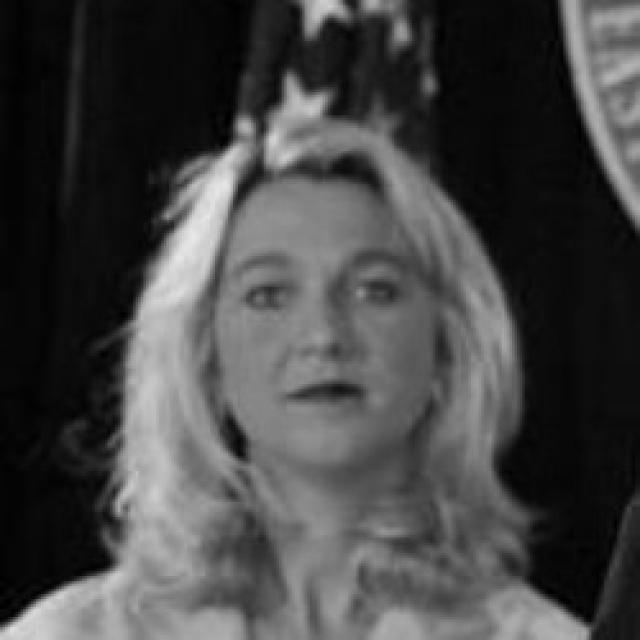real: (205, 147, 444, 492), (237, 257, 405, 333)
